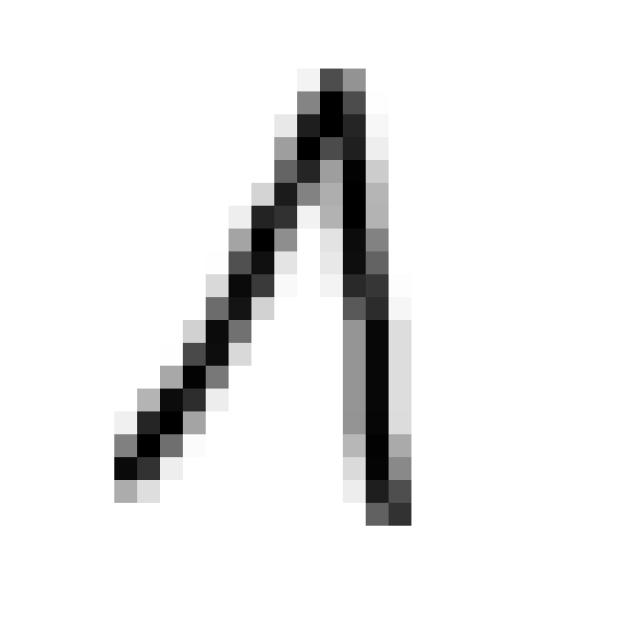8 -eight-: (89, 51, 443, 554)
